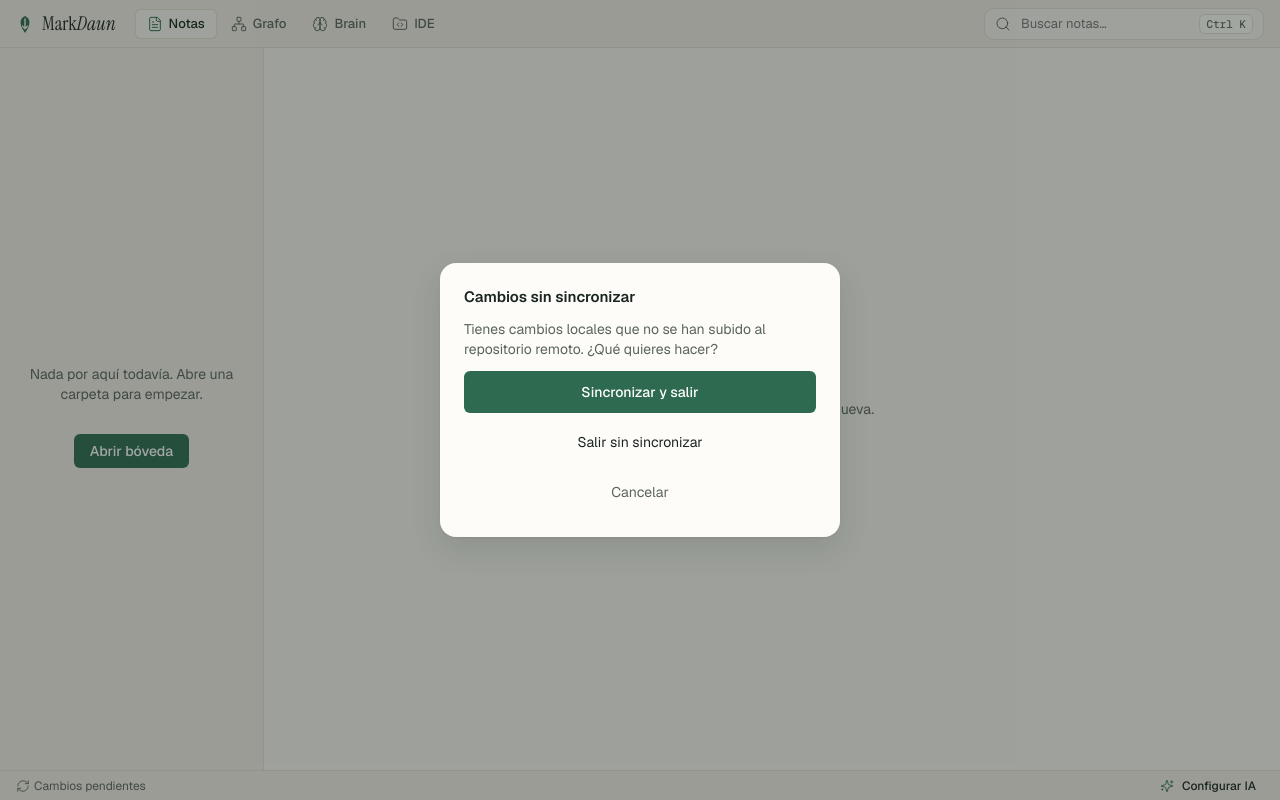
presencia en la barra de menús y guarda de salida › "Cancelar" cierra el diálogo y la app sigue viva
This screenshot has width=1280, height=800.
Click the button "Cancelar" at (640, 492), box [464,471,816,513]
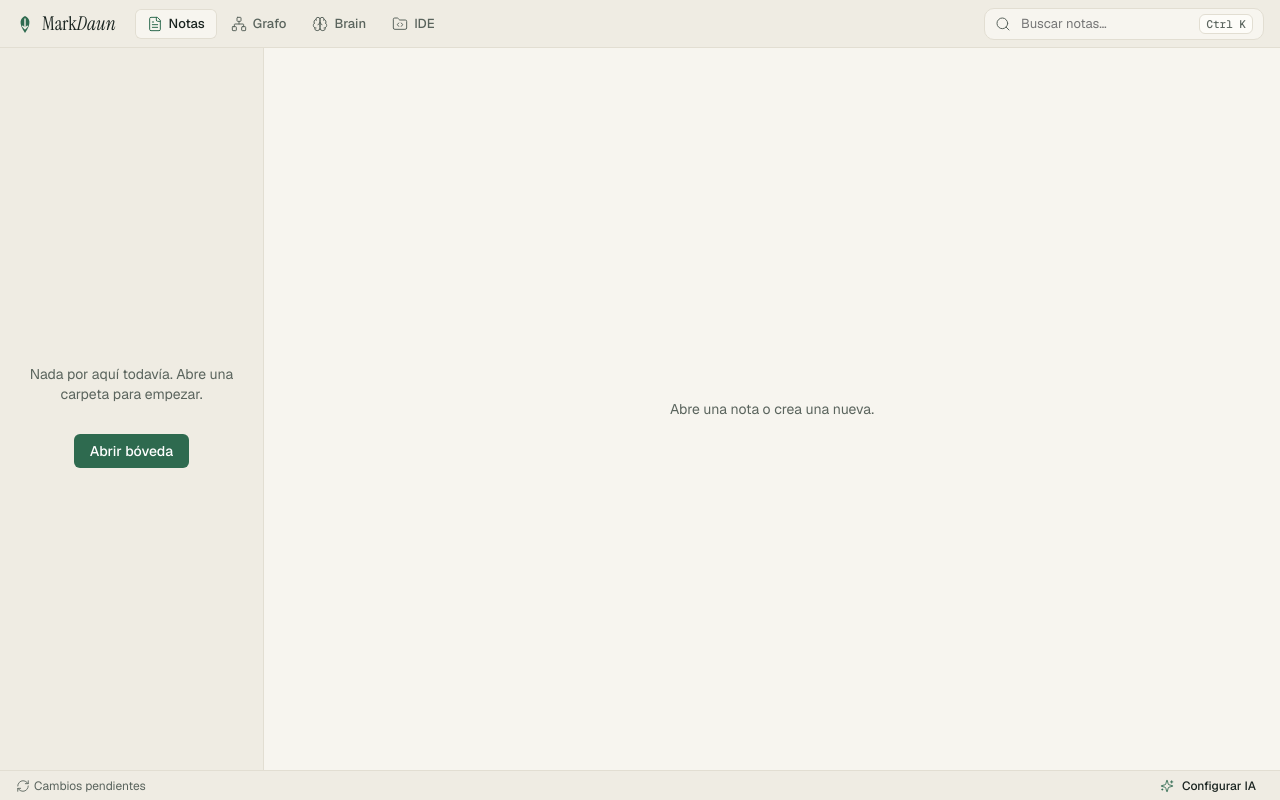
Check: the element with test id "exit-dialog" is gone
